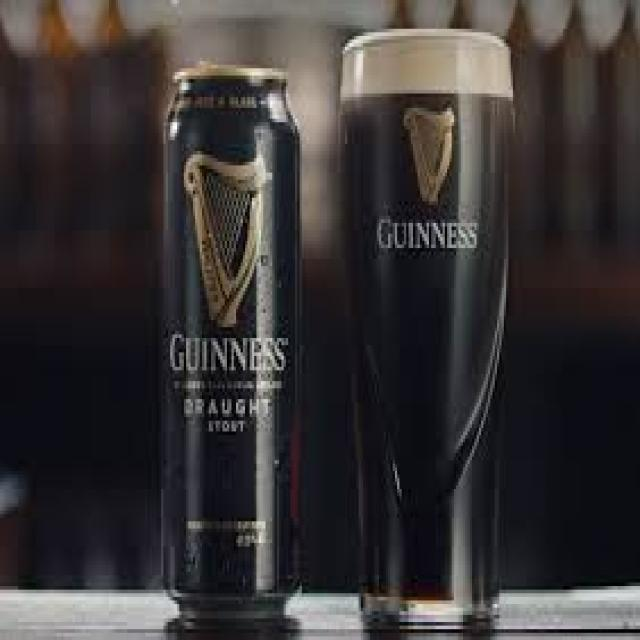guiness_full_glass: (343, 13, 517, 640)
